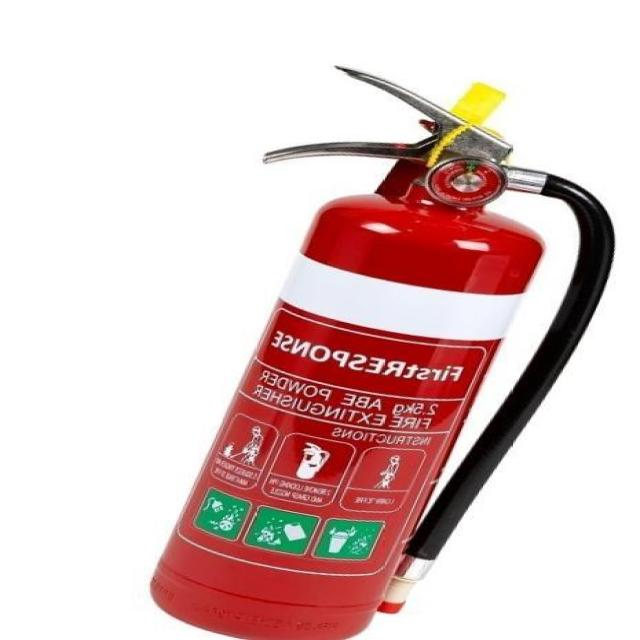fire_extinguisher: (141, 58, 621, 639)
